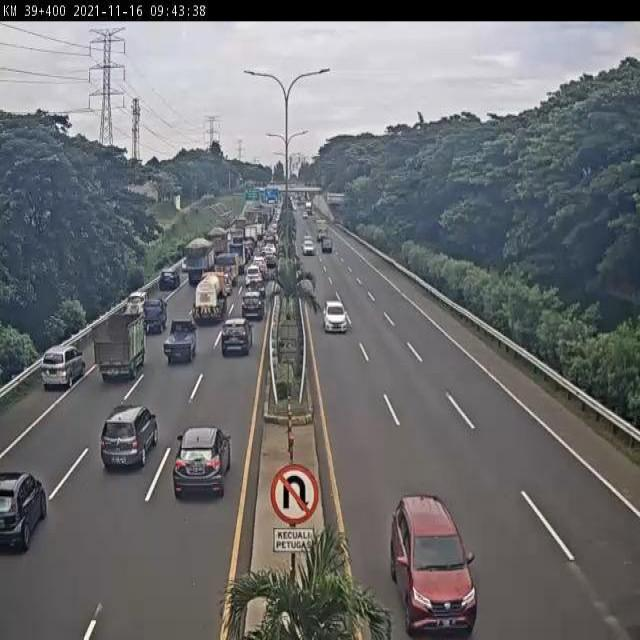car: (388, 492, 479, 639), (172, 427, 233, 496), (0, 471, 48, 556), (101, 404, 159, 473), (211, 304, 257, 361), (41, 341, 89, 395), (131, 291, 174, 340), (161, 316, 198, 369), (233, 282, 269, 330), (151, 258, 184, 306), (120, 285, 153, 323), (238, 259, 268, 296), (322, 296, 348, 333), (244, 276, 270, 307), (170, 248, 192, 283)
small truck: (84, 300, 153, 389), (214, 253, 239, 287)
truck-m-: (190, 271, 228, 324), (188, 235, 217, 285)
